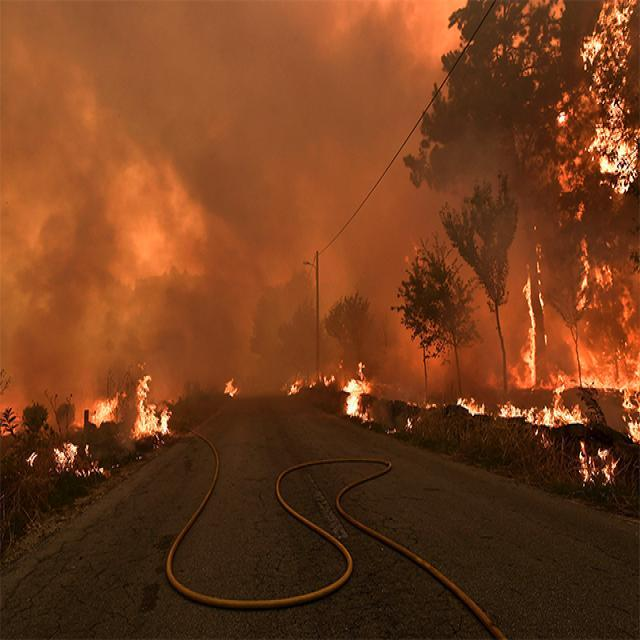Fire: (10, 346, 640, 514), (520, 0, 640, 359)
Smoke: (27, 0, 640, 467)
